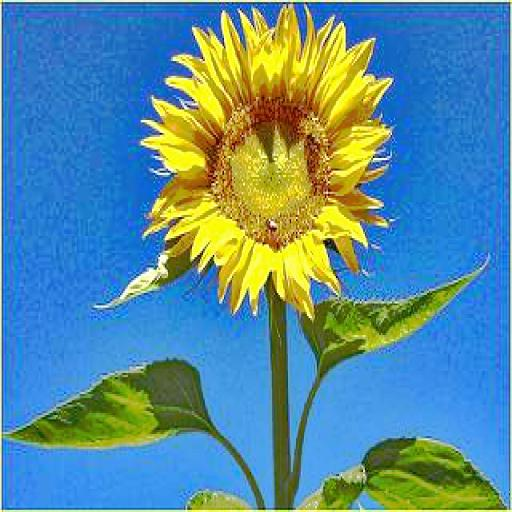sunflower: (142, 8, 384, 314)
